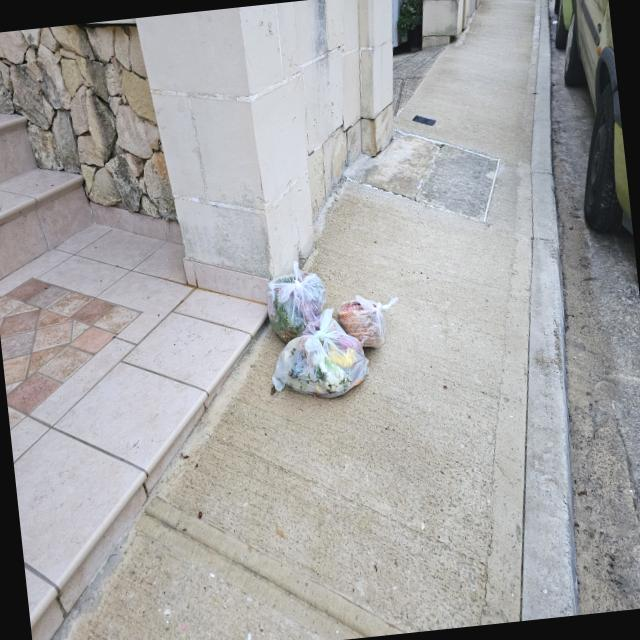white_bag: (264, 303, 374, 407), (262, 254, 333, 348), (333, 288, 405, 353)
